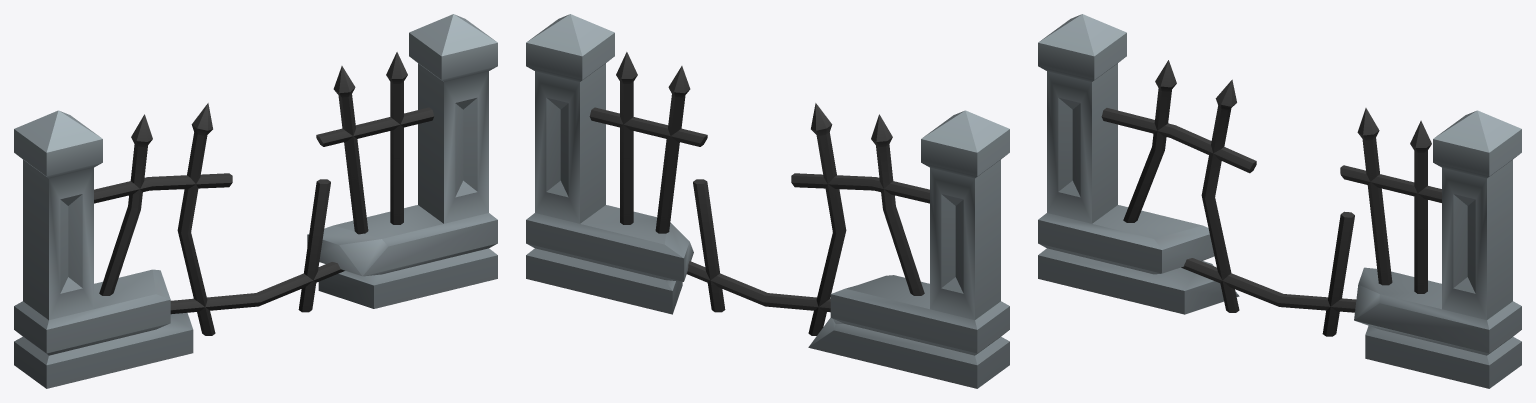
File: fence_broken.glb
The picture shows the model from 3 angles, left to right: view 1: azimuth 30°, elevation 25°; view 2: azimuth 150°, elevation 25°; view 3: azimuth 330°, elevation 25°; orthographic projection.
Visible parts, largest first — view 1: fence_broken; view 2: fence_broken; view 3: fence_broken.
Part boxes in pixels (left/top/right/bottom): fence_broken: left=14, top=14, right=497, bottom=388; fence_broken: left=526, top=14, right=1009, bottom=388; fence_broken: left=1038, top=14, right=1521, bottom=388.
Size of the model in its own units: 4 by 2.2 by 0.5.
Materials: 1 (1 with a texture image).
